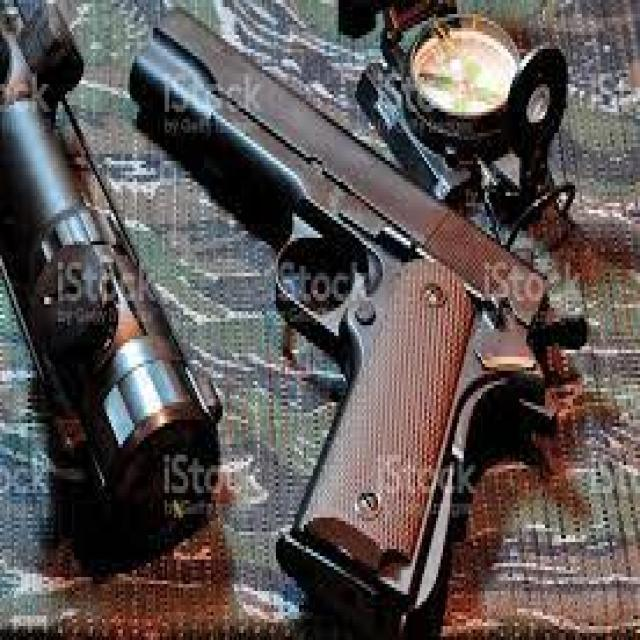semi automatic: (120, 0, 596, 637)
